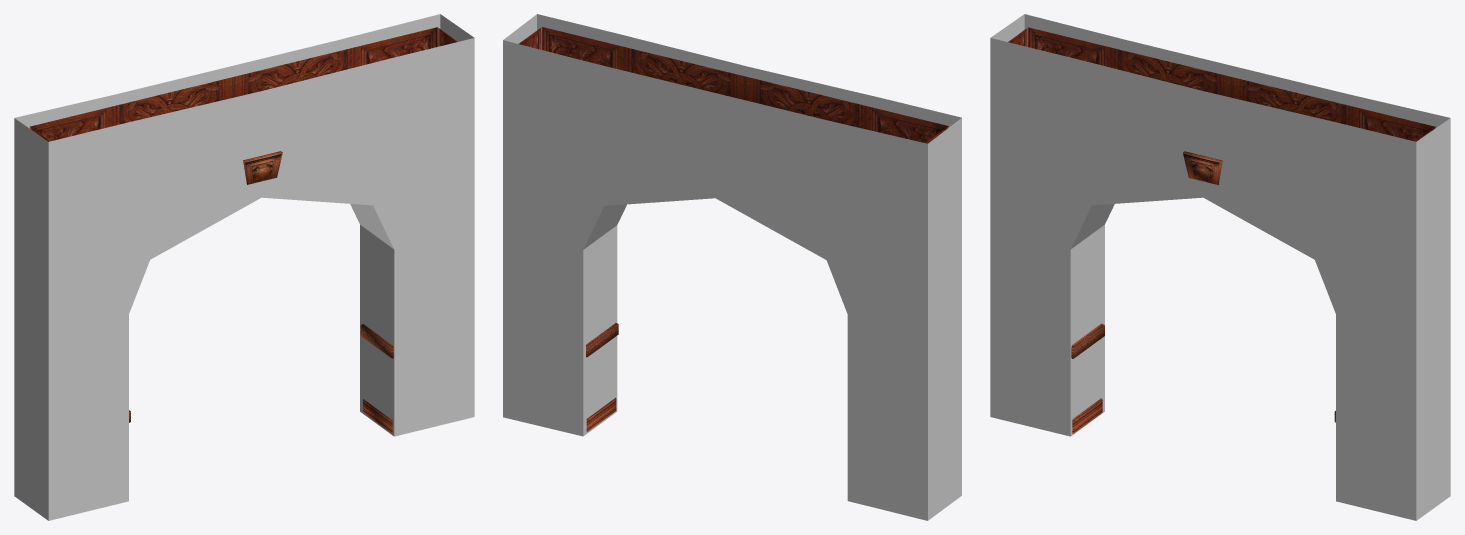
The model's file is Arch_Wide.fbx.
3 renders of one model, left to right at view 1: azimuth 30°, elevation 25°; view 2: azimuth 150°, elevation 25°; view 3: azimuth 330°, elevation 25°, orthographic.
Visible parts, largest first — view 1: Arch_Wide_ColMesh, WideArchway; view 2: Arch_Wide_ColMesh, WideArchway; view 3: Arch_Wide_ColMesh, WideArchway.
Part boxes in pixels (x1,y1,x2,y2): Arch_Wide_ColMesh: (14, 14, 474, 520); WideArchway: (29, 27, 457, 433); Arch_Wide_ColMesh: (503, 14, 961, 520); WideArchway: (519, 27, 948, 431); Arch_Wide_ColMesh: (990, 14, 1450, 520); WideArchway: (1008, 27, 1435, 433).
Bounding box in the file's own units: 1408 × 1198 × 207.
